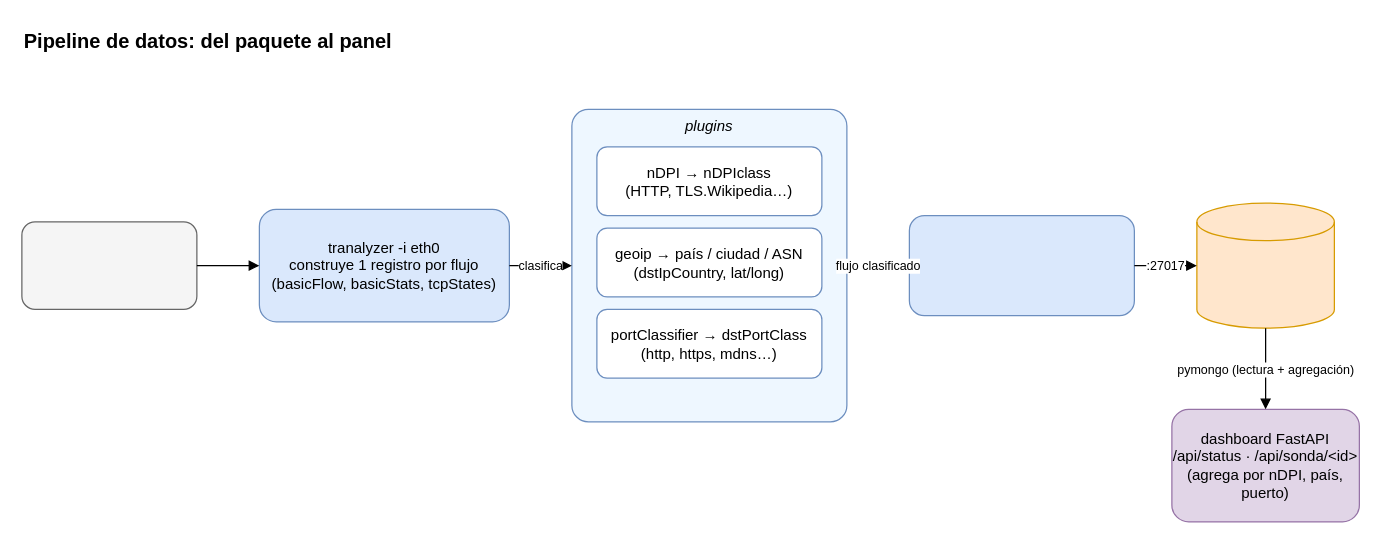
Image size: 1381x544. Some labels were removed from this diagram. Each missing label, with the centre of its shape:
MongoDB tranalyzer / flow_<id>: the point at 1265,265
mongoSink exporta cada flujo completo: the point at 1021,265
Tráfico de red (interfaz eth0): the point at 109,265
